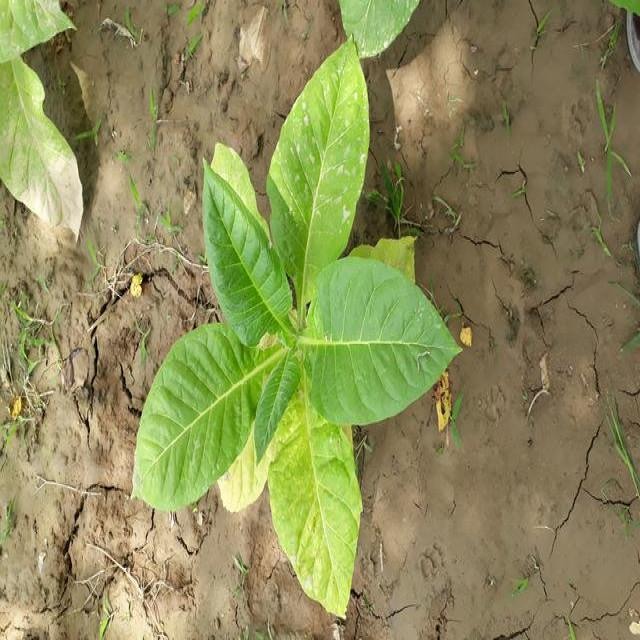crop: (135, 38, 464, 617), (0, 0, 76, 215)
